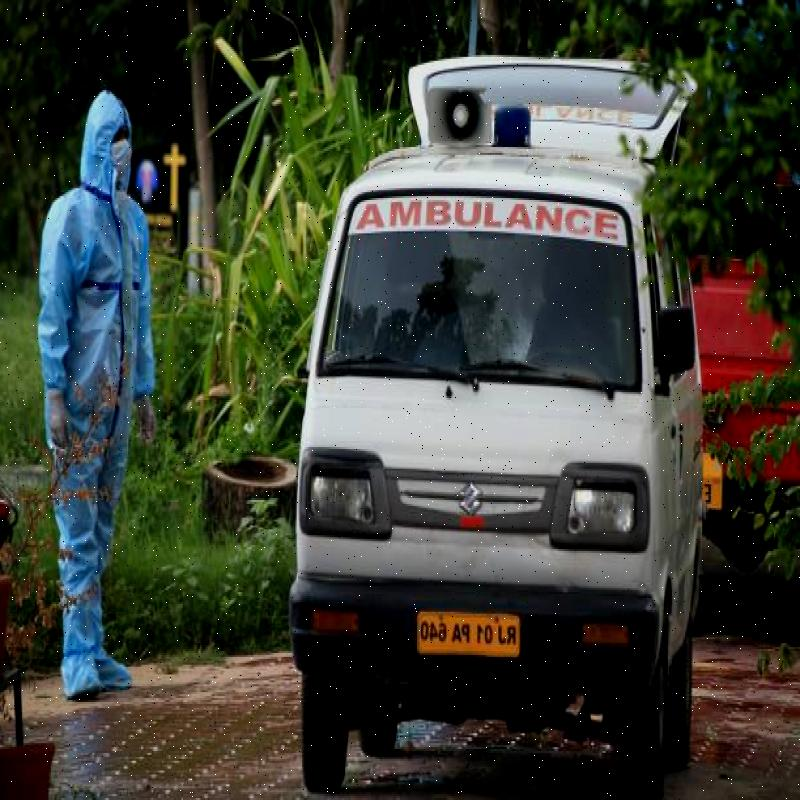ambulance: (306, 121, 683, 780)
